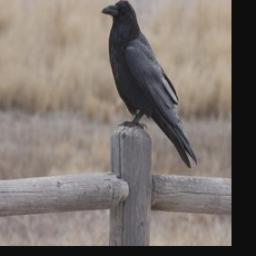Crow: (100, 0, 199, 170)
